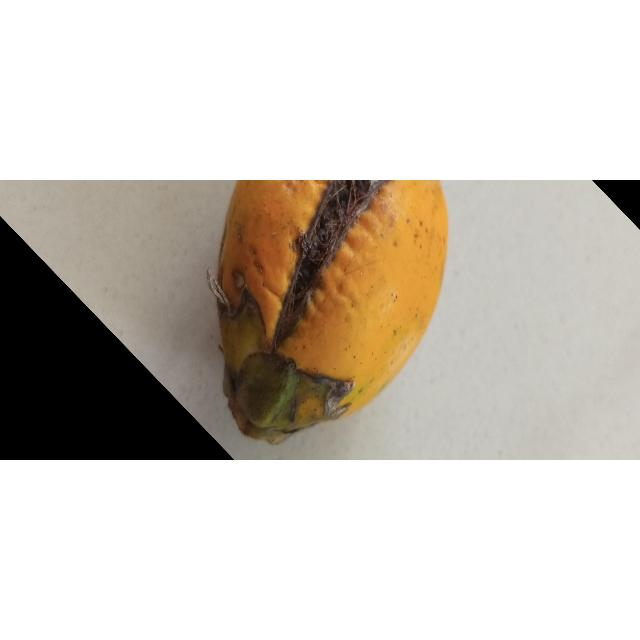damaged: (211, 180, 450, 446)
